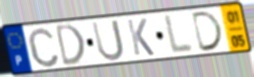C: (26, 25, 62, 69)
D: (190, 9, 226, 54), (54, 22, 87, 69)
K: (125, 18, 156, 58)
L: (163, 13, 196, 56)
U: (90, 18, 126, 63)
